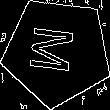M_E: (30, 25, 85, 78)
